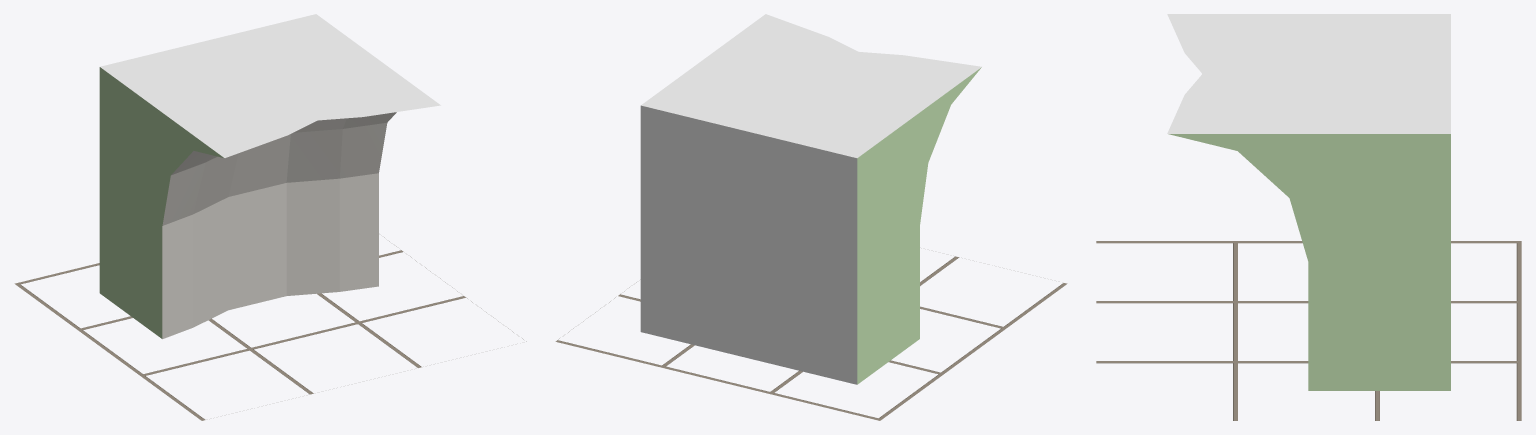
The model's file is Wall_Straight_Deformed_Concave_2x2_Top.glb.
The picture shows the model from 3 angles, left to right: view 1: azimuth 30°, elevation 25°; view 2: azimuth 150°, elevation 25°; view 3: azimuth 270°, elevation 25°; orthographic projection. The views are drawn at different scales.
Parts seen in each view (by area): view 1: Wall_Straight_Deformed_Concave_2x2_Top, Floor; view 2: Wall_Straight_Deformed_Concave_2x2_Top, Floor; view 3: Wall_Straight_Deformed_Concave_2x2_Top, Floor.
Boxes of the visible parts, bbox=[...] form: Wall_Straight_Deformed_Concave_2x2_Top: bbox=[99, 14, 440, 339]; Floor: bbox=[14, 237, 526, 420]; Wall_Straight_Deformed_Concave_2x2_Top: bbox=[640, 14, 981, 384]; Floor: bbox=[555, 256, 1067, 420]; Wall_Straight_Deformed_Concave_2x2_Top: bbox=[1167, 14, 1450, 390]; Floor: bbox=[1096, 241, 1521, 420].
Size of the model in its own units: 300 by 200 by 300.
Materials: 5 (1 with a texture image).
